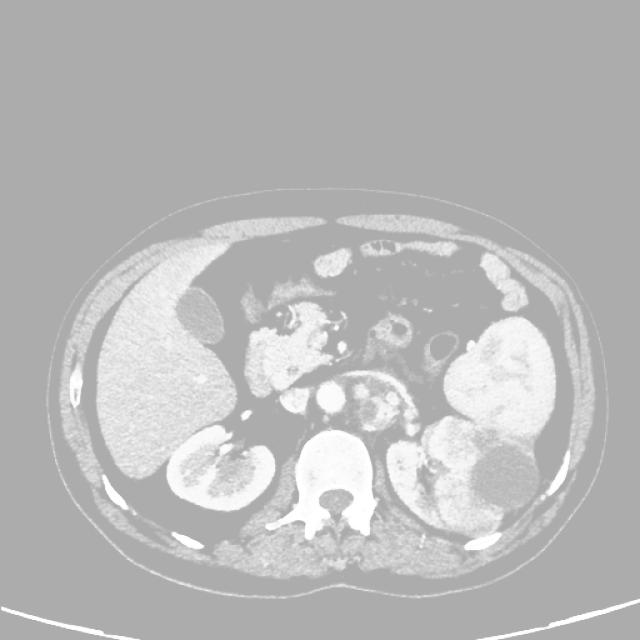TUMOR: (120, 216, 535, 498)
